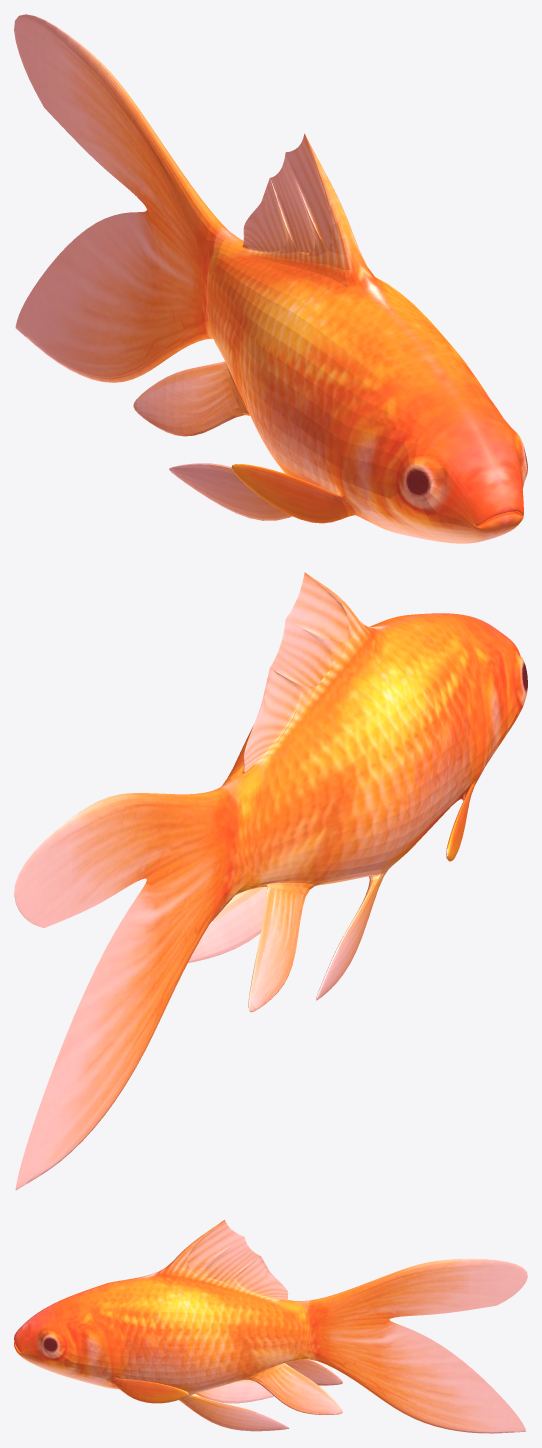
File: goldfish.glb
The picture shows the model from 3 angles, top to bottom: view 1: azimuth 30°, elevation 25°; view 2: azimuth 150°, elevation 25°; view 3: azimuth 270°, elevation 25°; orthographic projection. The views are drawn at different scales.
Visible parts, largest first — view 1: fish; view 2: fish; view 3: fish.
Part boxes in pixels (x1,y1,x2,y2): fish: (14,14,527,543); fish: (14,572,527,1190); fish: (14,1219,527,1433).
Size of the model in its own units: 0.7657 by 1.39 by 3.02.
1 material, 1 textured.
